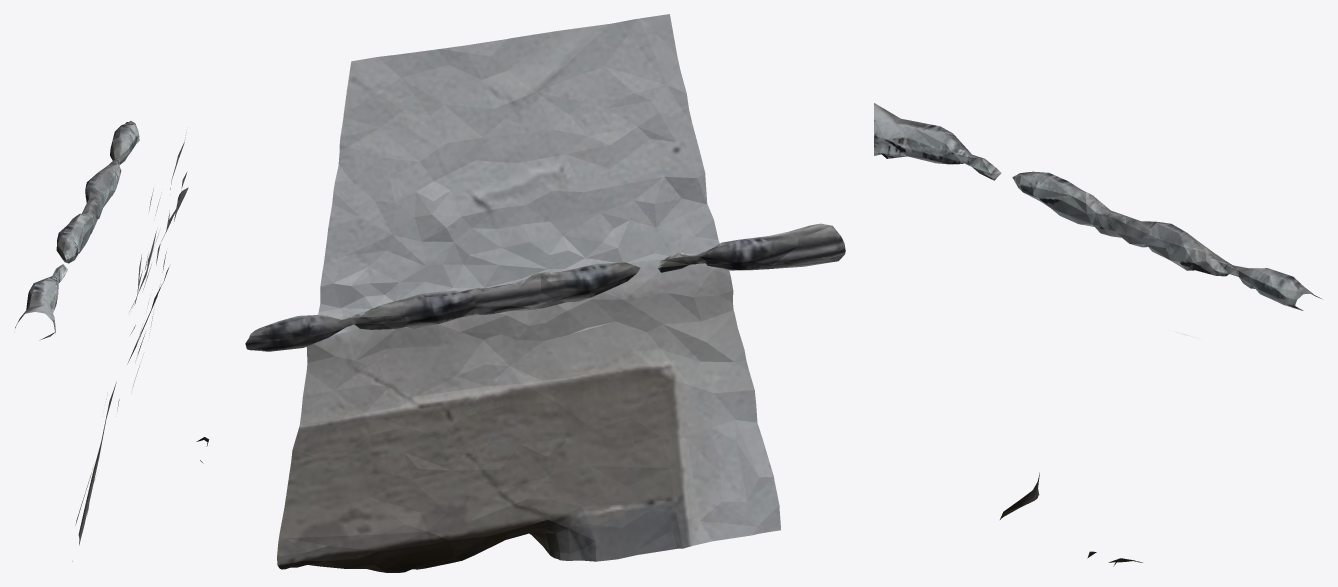
3 renders of one model, left to right at view 1: azimuth 30°, elevation 25°; view 2: azimuth 150°, elevation 25°; view 3: azimuth 270°, elevation 25°, orthographic. The views are drawn at different scales.
Size of the model in its own units: 0.6561 by 0.8374 by 0.7267.
Materials: 3 (3 with a texture image).
